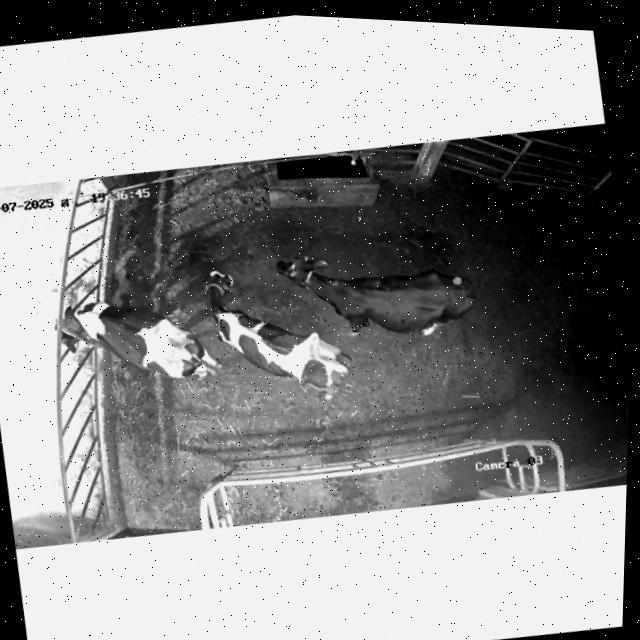stand: (262, 217, 495, 365), (192, 245, 363, 427)
